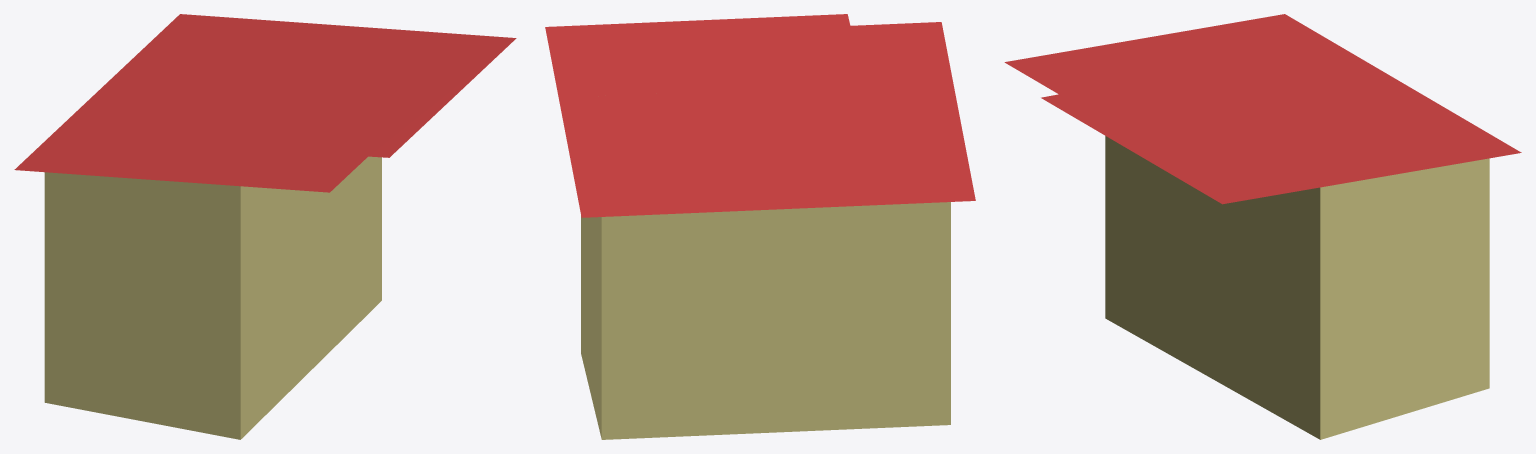
3 renders of one model, left to right at view 1: azimuth 30°, elevation 25°; view 2: azimuth 150°, elevation 25°; view 3: azimuth 270°, elevation 25°, orthographic. The views are drawn at different scales.
Size of the model in its own units: 17.68 by 16.82 by 9.95.
